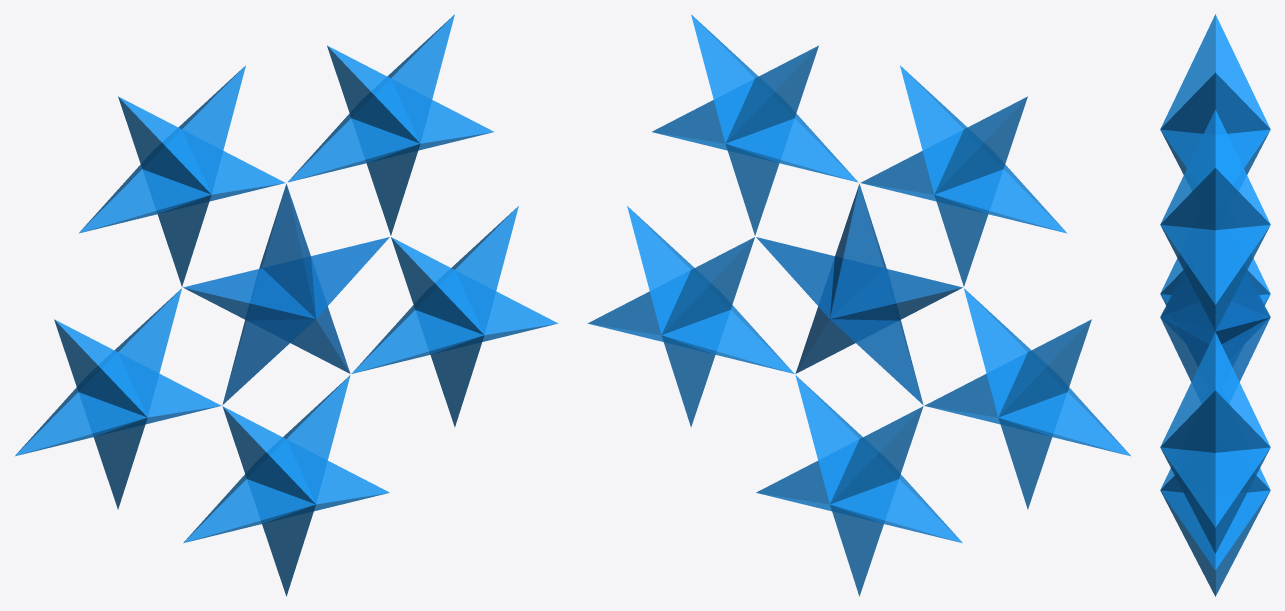
Rendered from fractalpentagrammicdipyramid1.glb.
3 renders of one model, left to right at view 1: azimuth 30°, elevation 25°; view 2: azimuth 150°, elevation 25°; view 3: azimuth 270°, elevation 25°, orthographic. The views are drawn at different scales.
Size of the model in its own units: 11.62 by 11.06 by 2.19.
